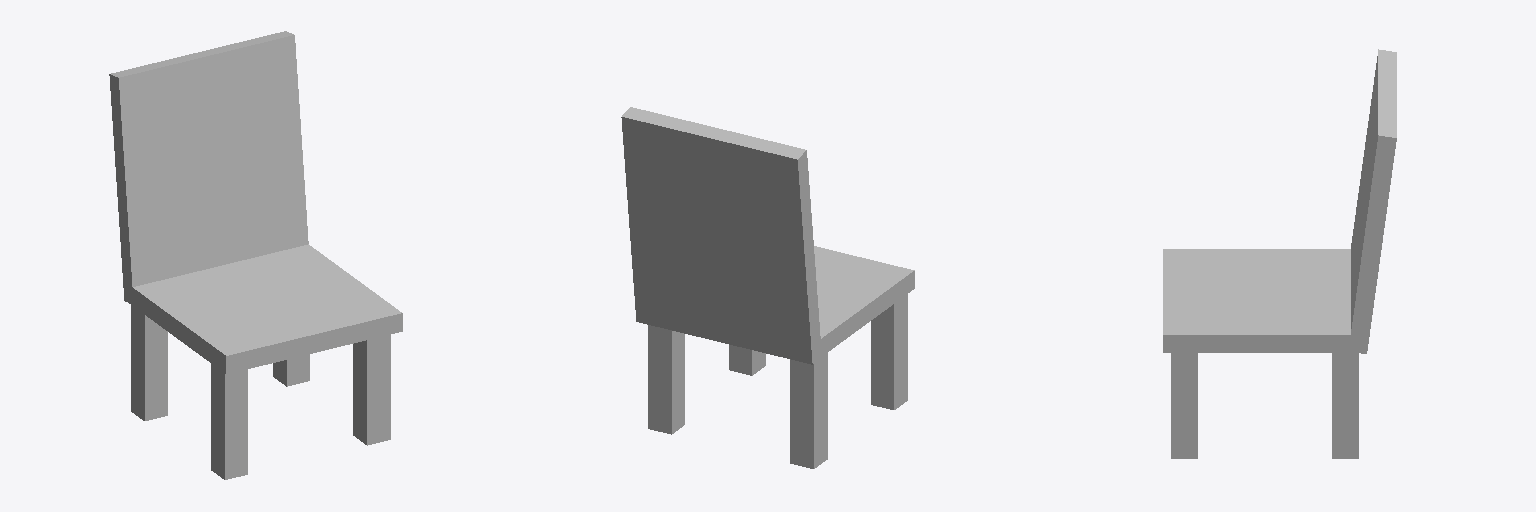
The model's file is Chair.obj.
3 views of the same model, side by side, from view 1: azimuth 30°, elevation 25°; view 2: azimuth 150°, elevation 25°; view 3: azimuth 270°, elevation 25° (orthographic).
Visible parts, largest first — view 1: Cube.001, Cube, Cube.002, Cube.003, Cube.005, Cube.004; view 2: Cube.001, Cube, Cube.005, Cube.004, Cube.002, Cube.003; view 3: Cube, Cube.001, Cube.004, Cube.003.
Part boxes in pixels (bbox=[...]): Cube.001: bbox=[109, 31, 308, 304]; Cube: bbox=[125, 244, 402, 374]; Cube.002: bbox=[211, 364, 247, 479]; Cube.003: bbox=[353, 335, 390, 445]; Cube.005: bbox=[131, 305, 167, 420]; Cube.004: bbox=[273, 354, 309, 386]; Cube.001: bbox=[621, 107, 821, 364]; Cube: bbox=[813, 246, 914, 360]; Cube.005: bbox=[790, 353, 827, 468]; Cube.004: bbox=[648, 325, 684, 434]; Cube.002: bbox=[871, 294, 907, 409]; Cube.003: bbox=[729, 345, 765, 375]; Cube: bbox=[1163, 249, 1366, 352]; Cube.001: bbox=[1348, 49, 1396, 353]; Cube.004: bbox=[1332, 353, 1358, 458]; Cube.003: bbox=[1171, 353, 1197, 458].
Size of the model in its own units: 2 by 3.55 by 2.3.